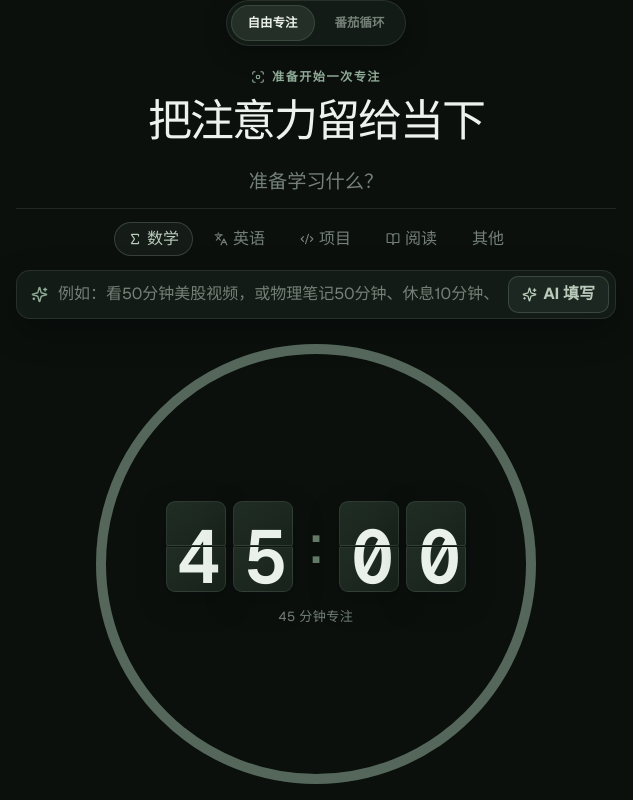
FocusTimer unified AI input › keeps null Pomodoro fields unchanged while switching modes
This screenshot has width=633, height=800.
Type "算法刷题，3轮" into the field named "用自然语言设置计时器" at (278, 294), box [58, 282, 498, 306]
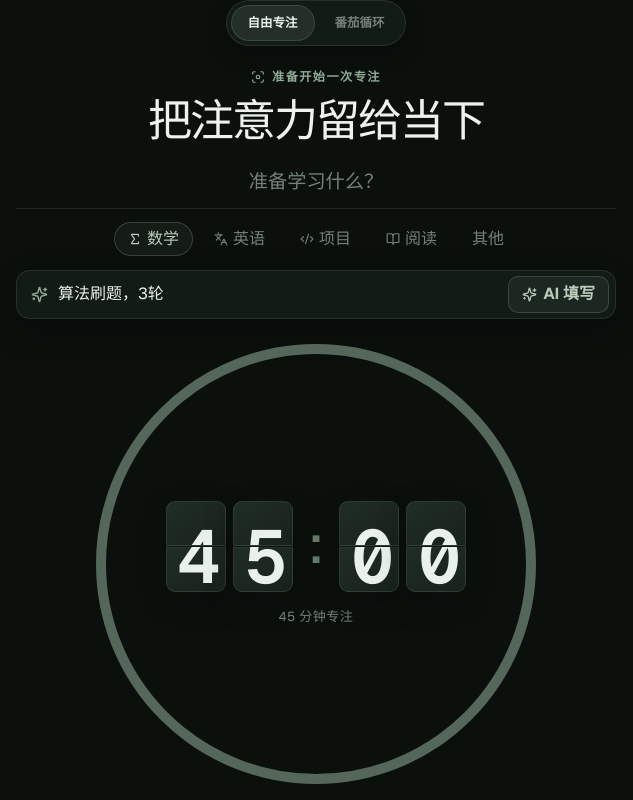
Click the button "AI 填写" at (559, 294), box [508, 276, 609, 313]
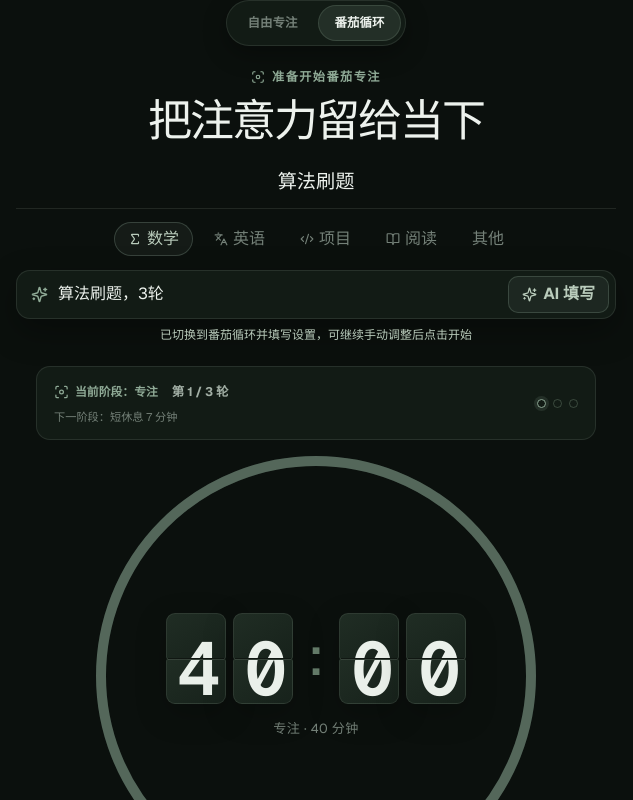
Now the 1st field named "本次学习任务" holds "算法刷题", box [16, 157, 616, 209]
Now the element named "剩余时间 40:00" is shown, box [166, 613, 466, 704]
